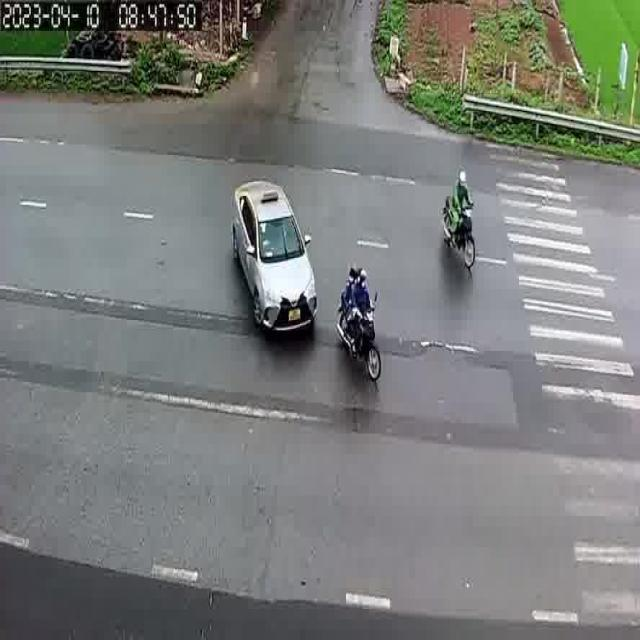normal: (220, 144, 406, 409), (221, 164, 323, 346), (329, 254, 390, 391), (429, 156, 487, 284)
